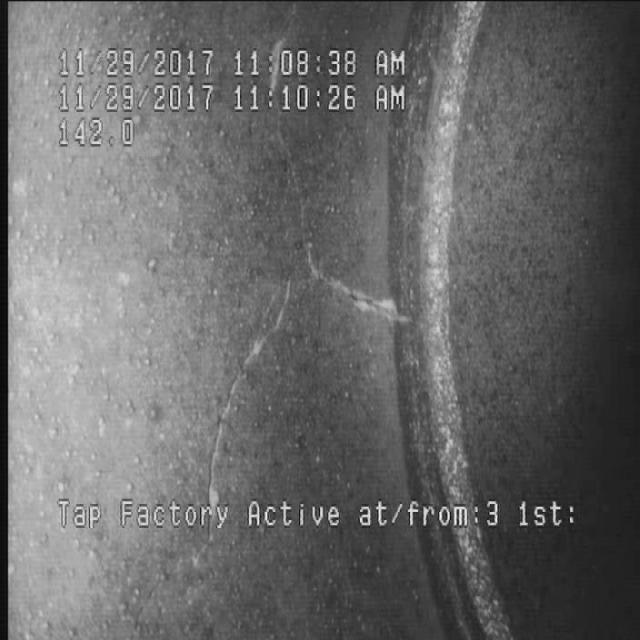Crack: (198, 134, 391, 488)
